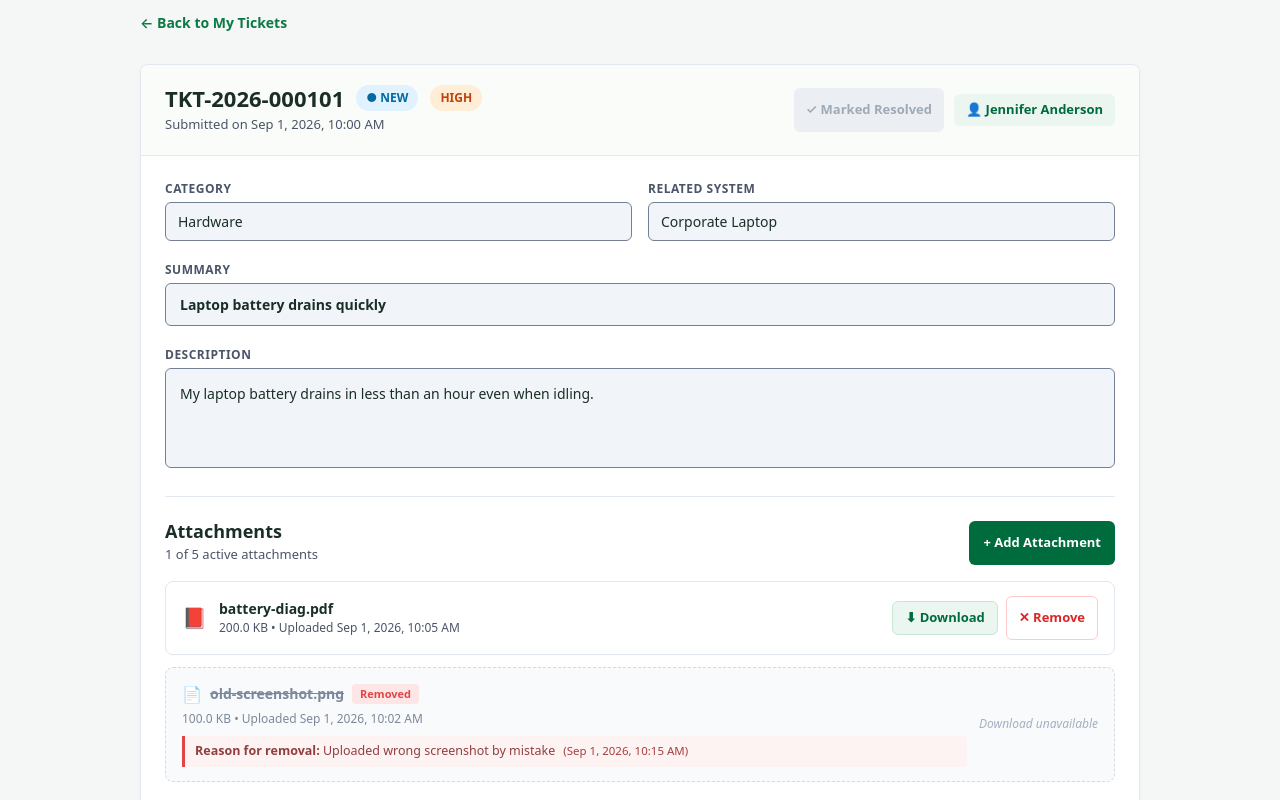
AttachmentSection Component (Lab 2) › UI-06 / AC-08: opens soft removal modal and requires at least 3 characters for removal reason
Click the button with test id "btn-remove-11" at [1052, 618], box [1006,596,1098,640]
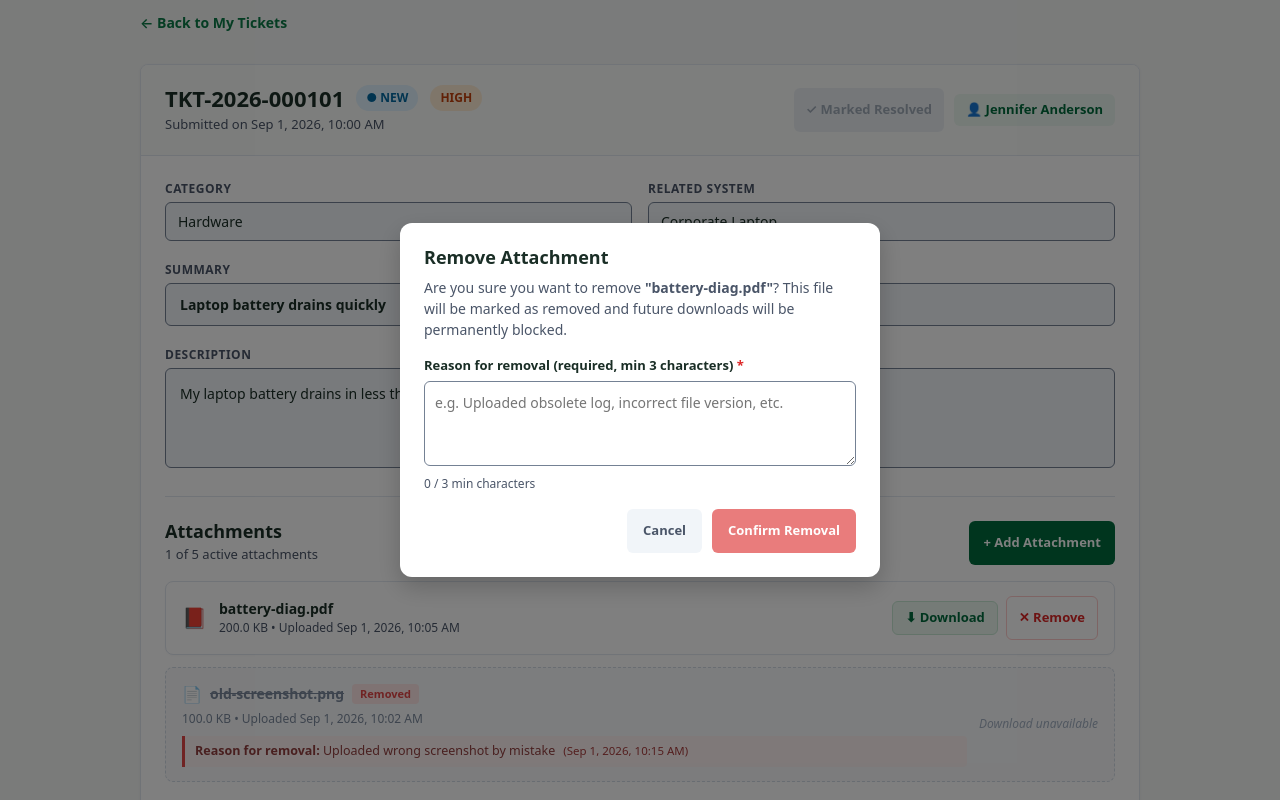
Now the element with test id "soft-remove-modal" is shown
Now the text "Are you sure you want to remove" is shown, box [424,278,645,296]
Now the button with test id "btn-confirm-removal" is disabled, box [712,509,856,553]
Type "ab" into the text box with test id "removal-reason-textarea" at [640, 424], box [424,381,856,466]
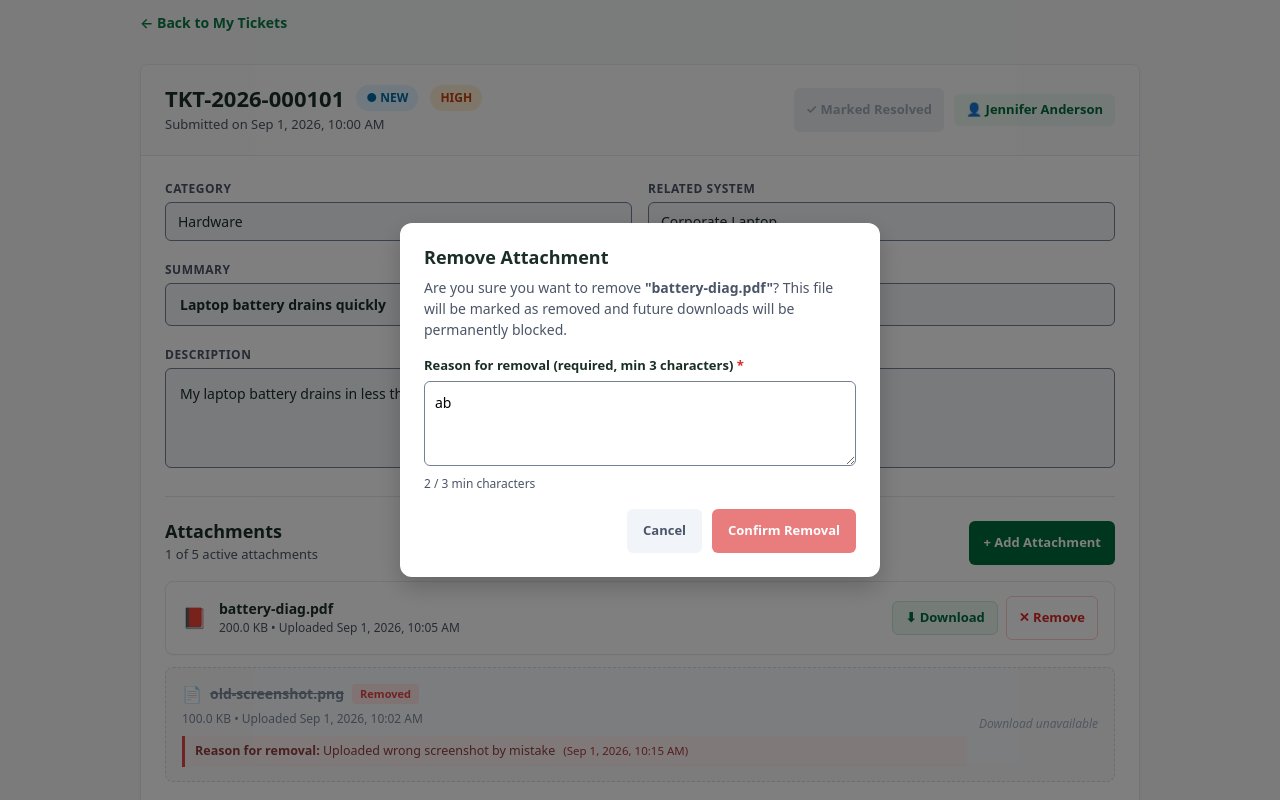
Now the button with test id "btn-confirm-removal" is disabled, box [712,509,856,553]
Replace the text in the text box with test id "removal-reason-textarea" with "Wrong document version" at [640, 424], box [424,381,856,466]
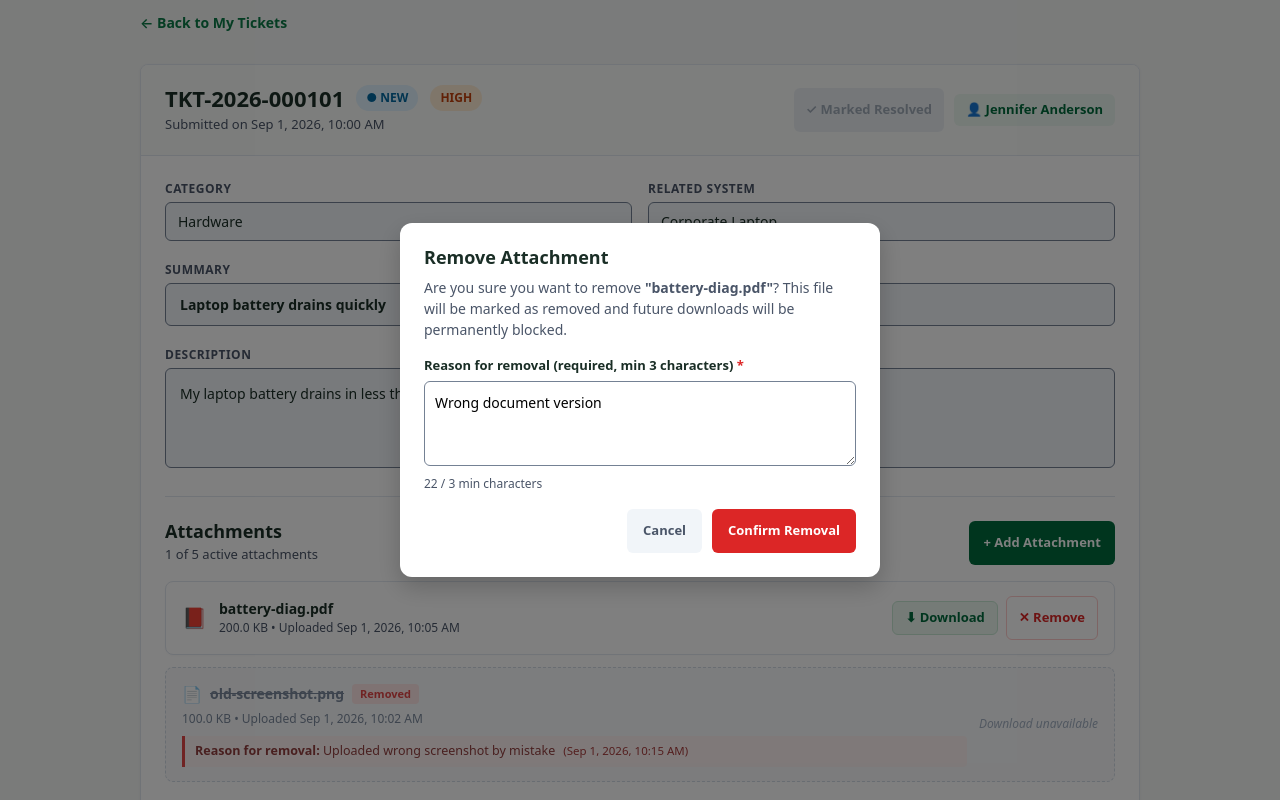
Now the button with test id "btn-confirm-removal" is enabled, box [712,509,856,553]
